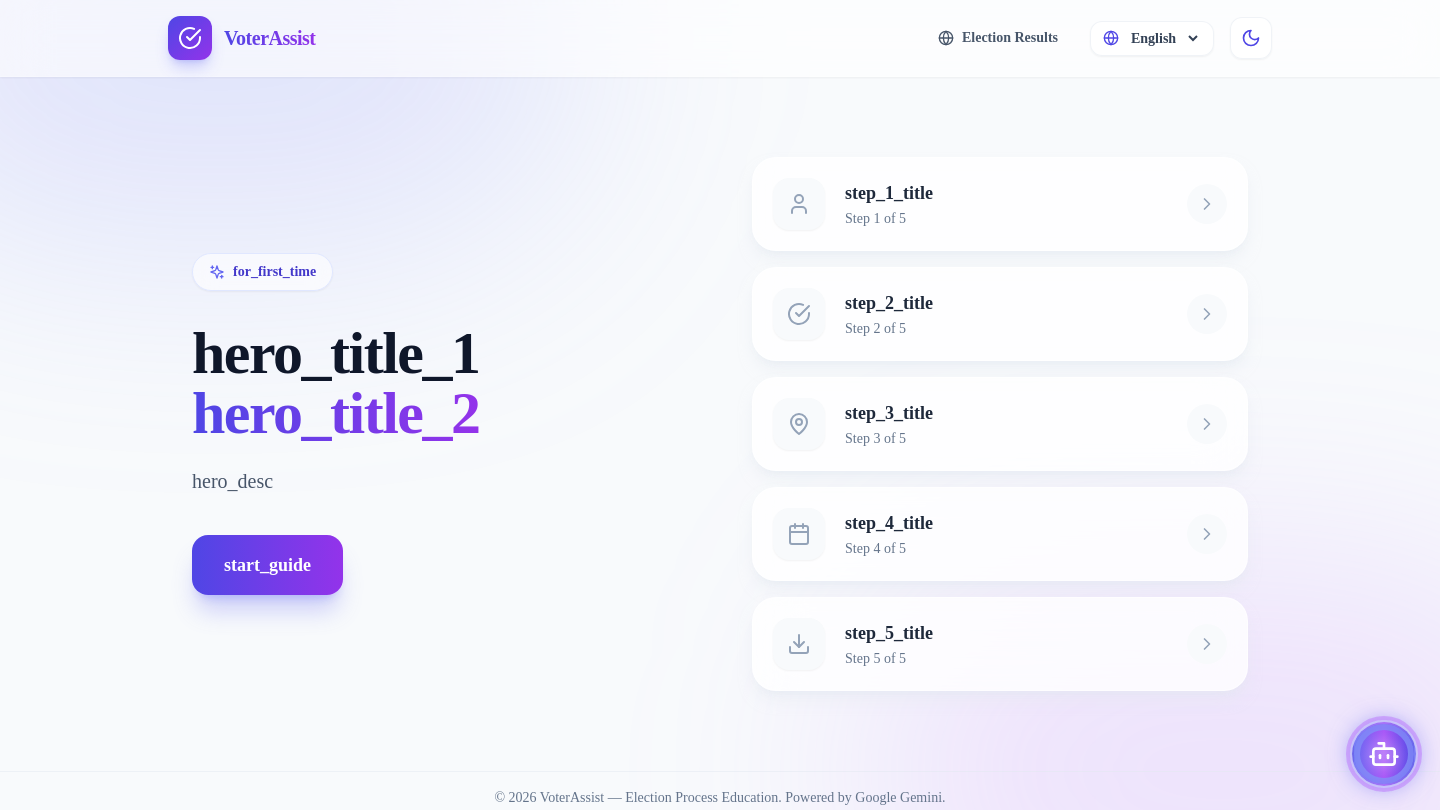
Chat Flow Integration › shows error message when API fails
Click the button named "Open AI Chat". click: (1384, 754)
box: x1=1352 y1=722 x2=1416 y2=786
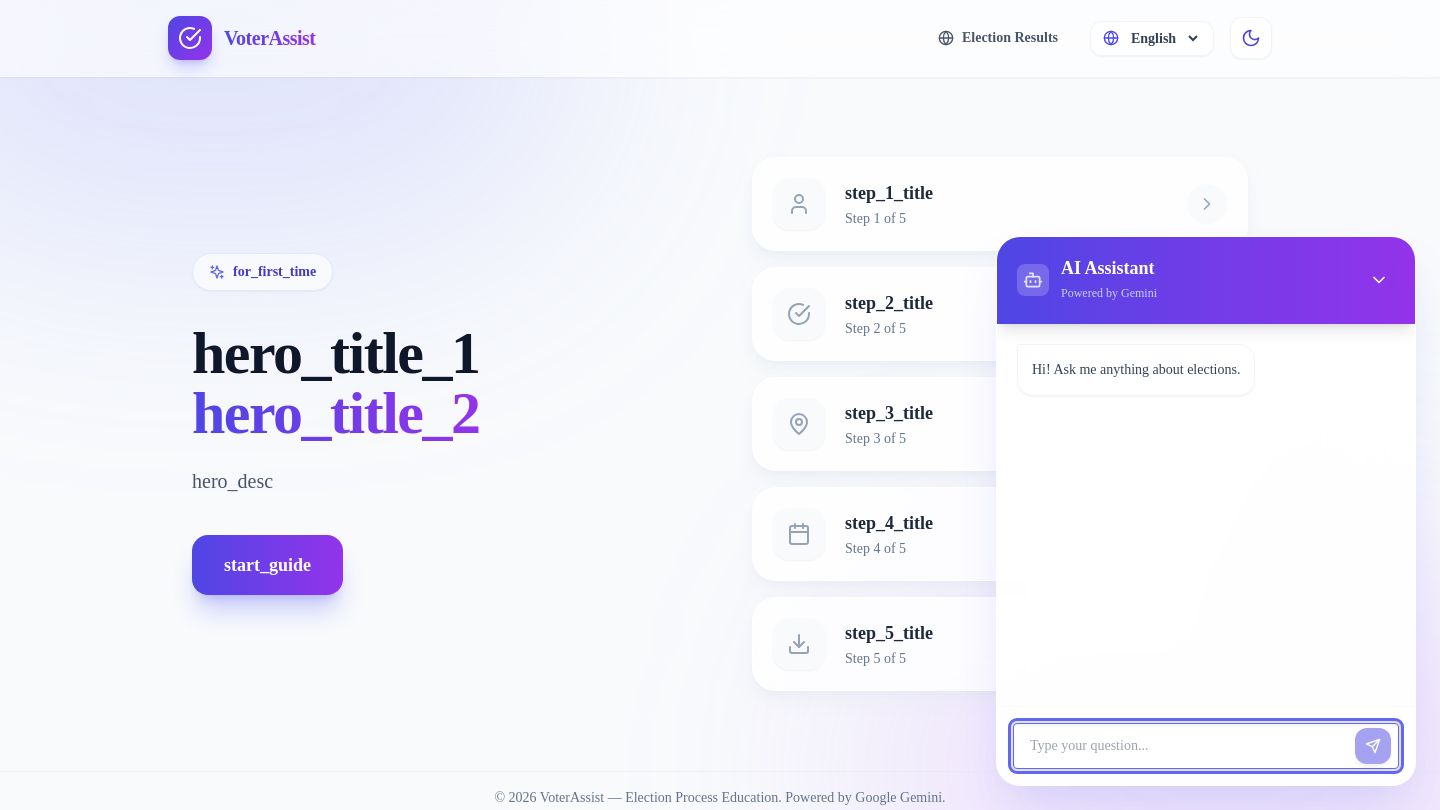
Type "Hello" into the field with placeholder "Type your question...". click: (1206, 746)
box: x1=1013 y1=723 x2=1399 y2=769
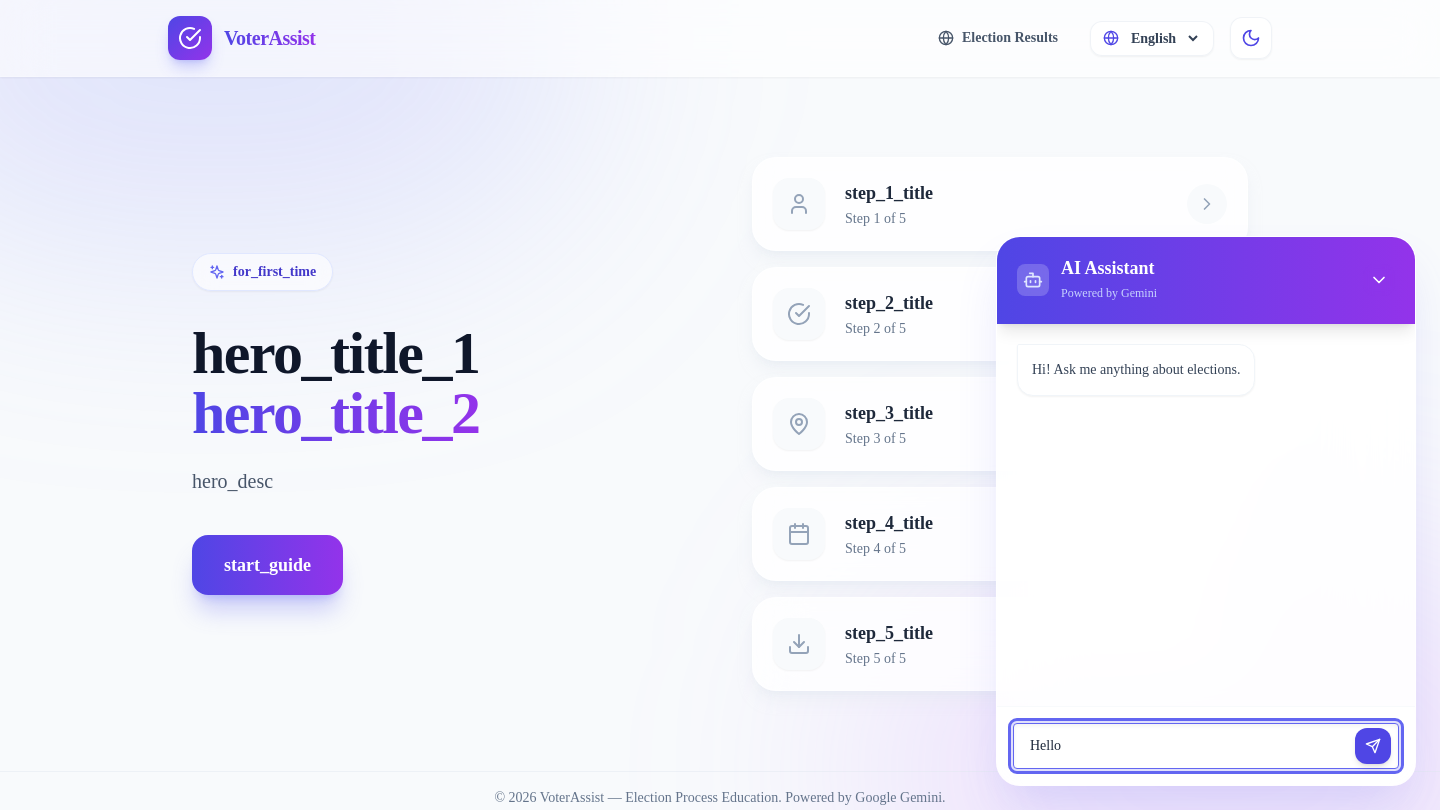
Click the button named "Send message". click: (1373, 746)
box: x1=1355 y1=728 x2=1391 y2=764
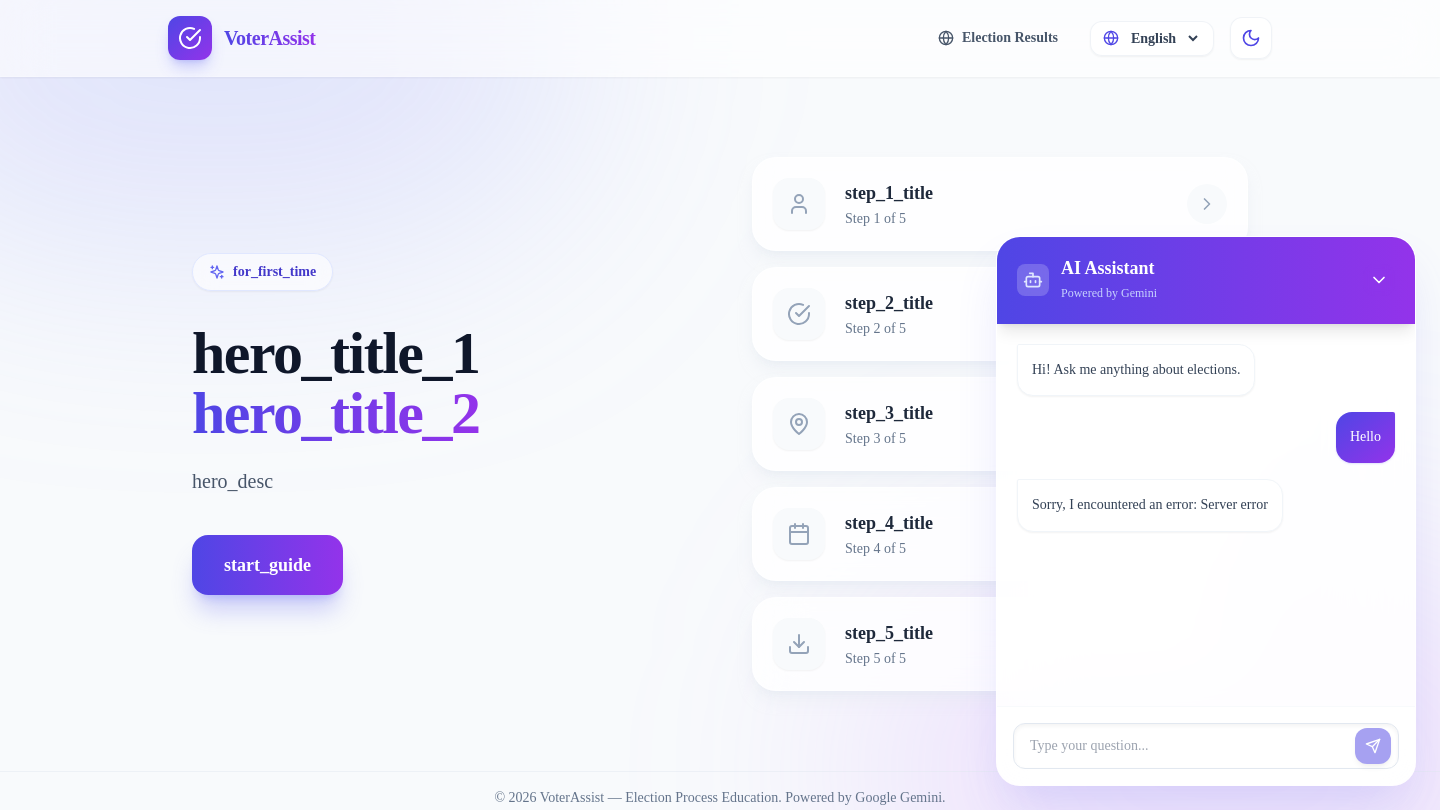
Expected: the text "Sorry, I encountered an error: Server error" is shown, x1=1017 y1=479 x2=1283 y2=532
